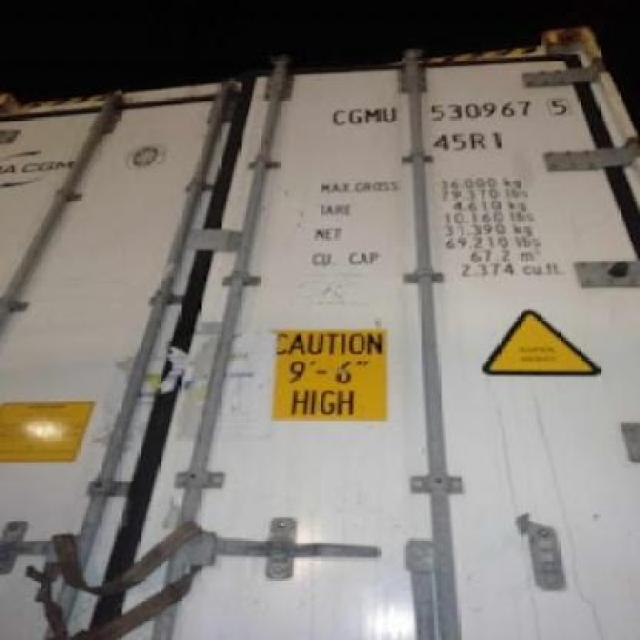ISO: (430, 128, 504, 153)
container_number: (334, 96, 569, 122)
